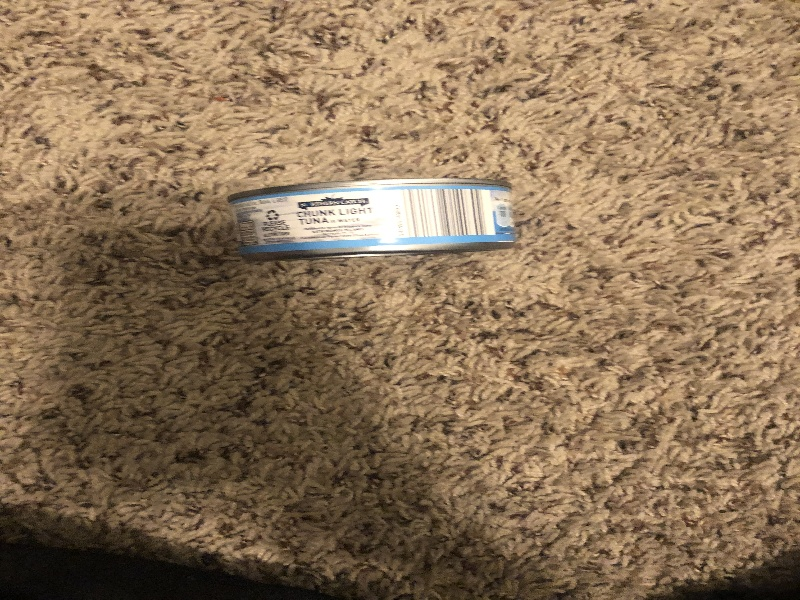metal: (219, 170, 519, 274)
